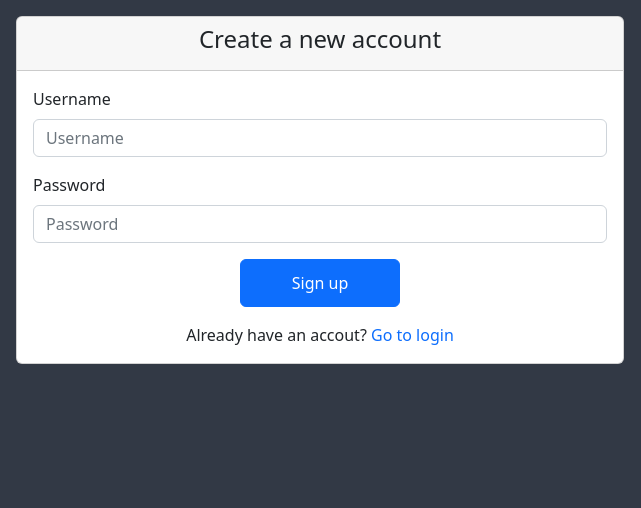
Test: Singup page test › Alert error if password is empty
Step 1. Type "test" into the field with placeholder "Username" → x=320, y=138, box [33, 119, 607, 157]
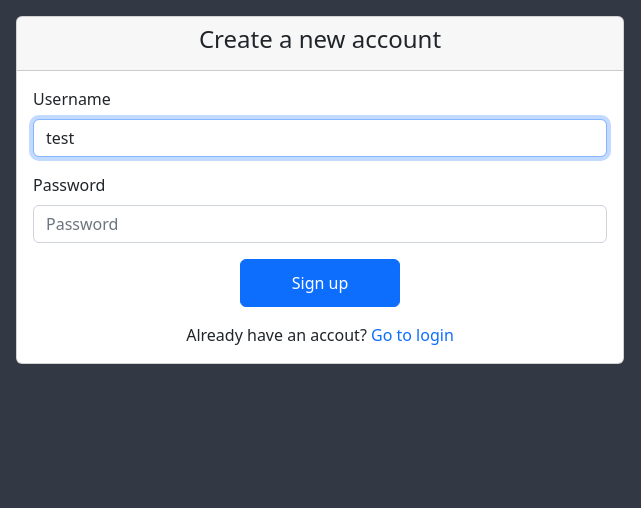
Step 2. Click the button "Sign up" → x=320, y=283, box [240, 259, 400, 307]
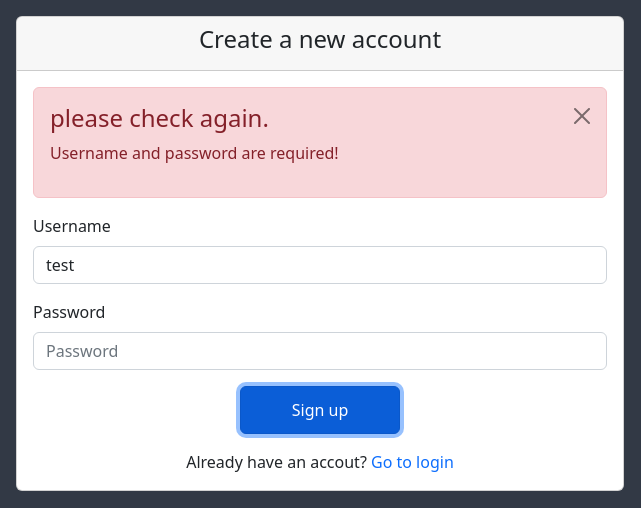
Expected: the text "Username and password are required!" is shown, [50, 142, 339, 164]
